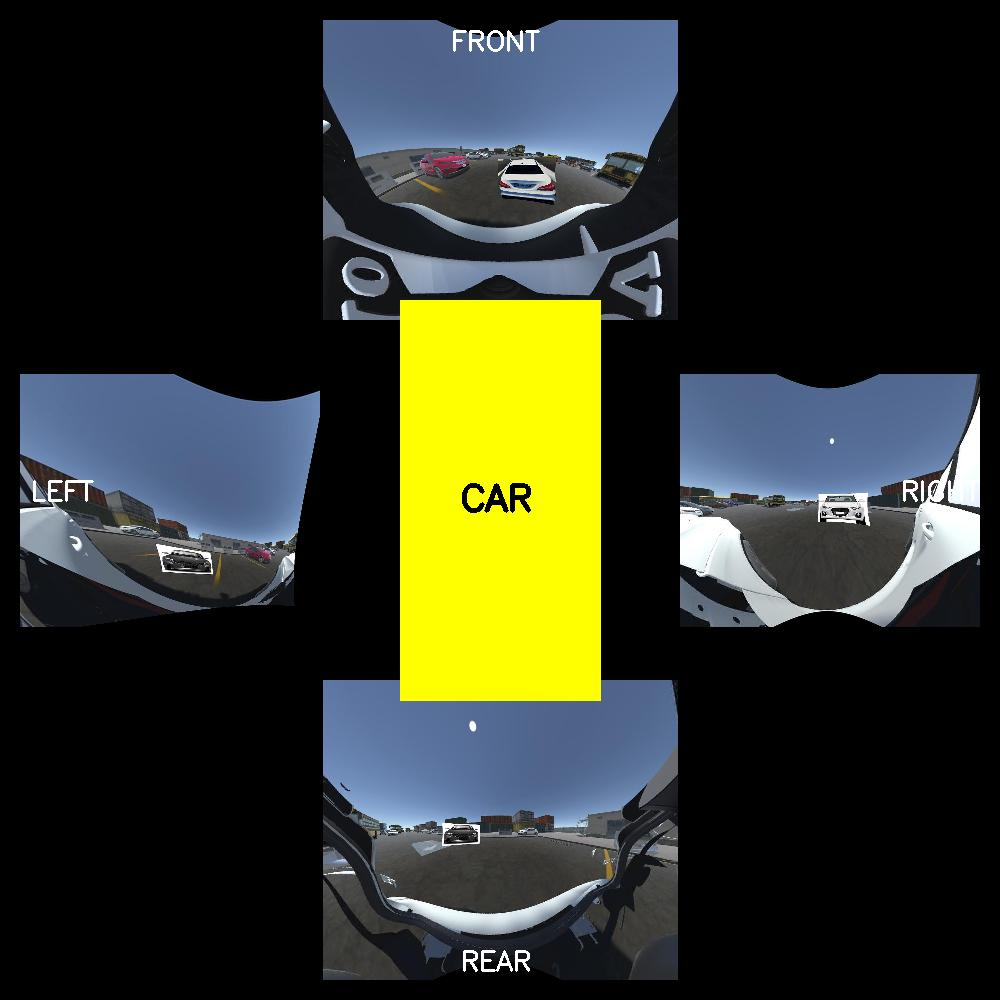Car: (496, 154, 560, 203), (157, 544, 216, 580), (819, 494, 871, 528), (440, 824, 479, 845)
